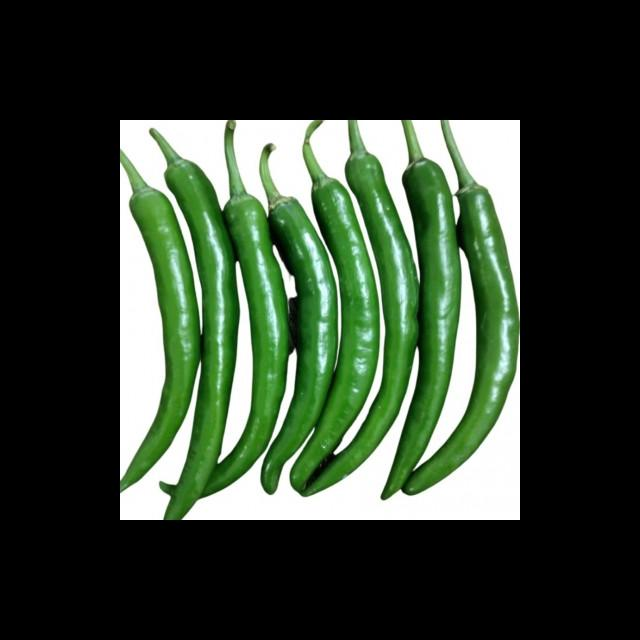chili_pepper: (402, 120, 520, 496), (308, 128, 419, 496), (202, 120, 289, 496), (156, 138, 239, 520), (382, 120, 462, 500), (291, 164, 380, 492), (120, 150, 200, 492), (260, 144, 338, 494)
